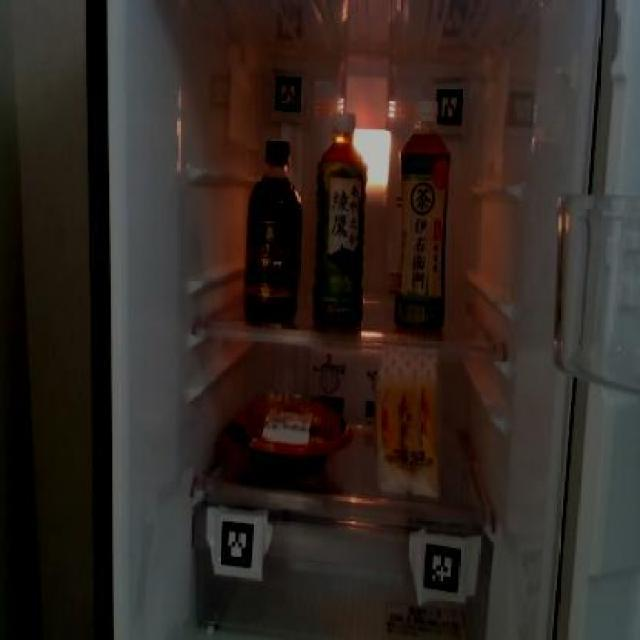bento: (226, 398, 352, 476)
bottle: (312, 108, 366, 327), (393, 126, 450, 328)
coffee: (242, 135, 302, 320)
sandwich: (374, 352, 440, 502)
